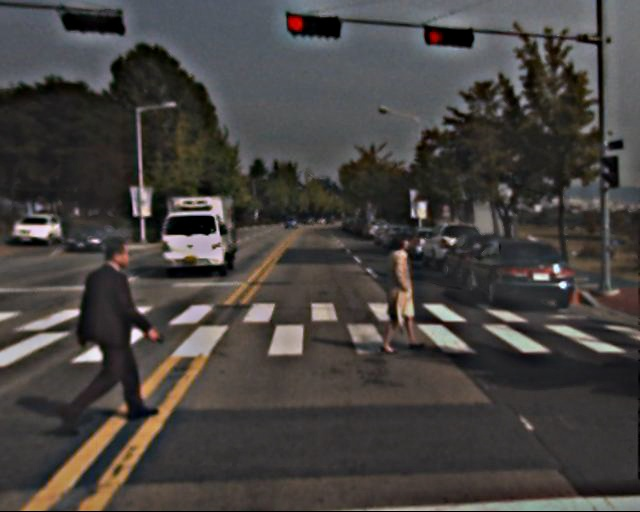person: (66, 240, 141, 424), (376, 233, 426, 355)
